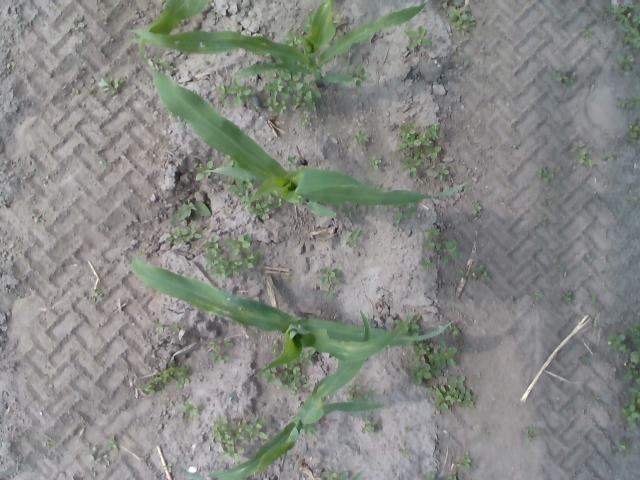Maize: (138, 38, 468, 218), (130, 253, 453, 376), (182, 310, 383, 480), (132, 1, 428, 84), (148, 1, 210, 33)
Weeds: (606, 320, 640, 428), (255, 73, 322, 126), (395, 121, 451, 182), (211, 414, 267, 460), (202, 234, 260, 278), (605, 3, 640, 74), (416, 223, 462, 270), (412, 342, 458, 386), (430, 374, 476, 414), (143, 364, 191, 394), (175, 190, 212, 224), (215, 77, 252, 109), (266, 366, 306, 395), (448, 4, 477, 34), (250, 194, 282, 219), (205, 338, 235, 364), (318, 266, 342, 298), (166, 224, 200, 246), (570, 141, 594, 169), (404, 25, 431, 48), (86, 446, 110, 470), (392, 206, 417, 228), (225, 178, 250, 198), (346, 384, 372, 402), (470, 264, 494, 283), (523, 424, 545, 443), (152, 320, 178, 336), (358, 416, 381, 434), (100, 77, 124, 94), (152, 56, 177, 72), (352, 63, 368, 88), (194, 161, 214, 181), (554, 68, 578, 84), (345, 228, 362, 250), (453, 451, 472, 469), (181, 404, 205, 418), (283, 30, 302, 46), (340, 203, 360, 218), (629, 117, 640, 144), (354, 128, 371, 145), (300, 348, 316, 366), (616, 96, 640, 108), (610, 440, 630, 454), (323, 469, 348, 480), (579, 25, 594, 43), (538, 166, 554, 182), (369, 153, 382, 171), (31, 208, 45, 224), (602, 151, 618, 165), (106, 435, 118, 452), (301, 10, 311, 30), (558, 290, 572, 304), (90, 288, 104, 301), (72, 16, 84, 31), (398, 442, 410, 457), (301, 424, 317, 435), (86, 77, 96, 94), (408, 322, 420, 336), (446, 471, 464, 480), (588, 290, 598, 306), (626, 191, 638, 203), (98, 154, 109, 167), (270, 340, 280, 354), (372, 183, 388, 191), (288, 155, 299, 166), (224, 155, 235, 166), (350, 470, 362, 480), (44, 439, 54, 451), (472, 203, 482, 215), (77, 64, 85, 78), (424, 471, 438, 479), (458, 268, 468, 279), (531, 290, 542, 299), (540, 216, 549, 226), (579, 356, 590, 364), (553, 260, 564, 268), (403, 426, 414, 434), (540, 198, 550, 206), (165, 462, 172, 472), (72, 88, 80, 96), (601, 268, 609, 274)
